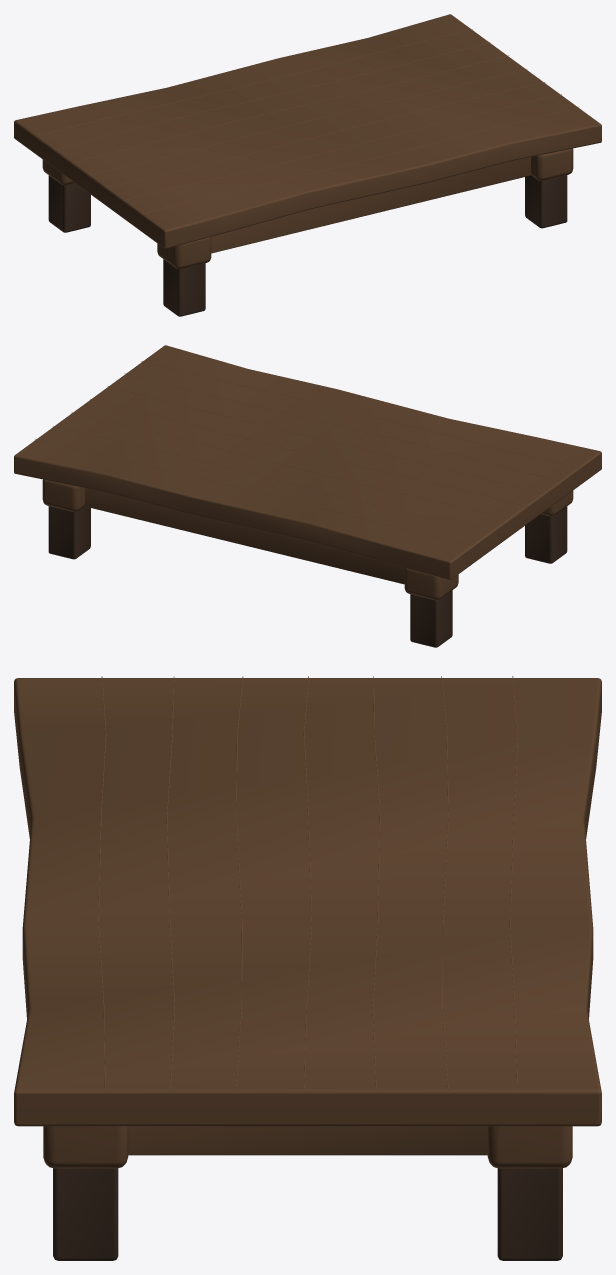
The model's file is kominka-zataku-01.glb.
The picture shows the model from 3 angles, top to bottom: view 1: azimuth 30°, elevation 25°; view 2: azimuth 150°, elevation 25°; view 3: azimuth 270°, elevation 25°; orthographic projection. The views are drawn at different scales.
Parts seen in each view (by area): view 1: kominka-zataku-01; view 2: kominka-zataku-01; view 3: kominka-zataku-01.
Boxes of the visible parts, x1,y1,x2,y2 form: kominka-zataku-01: (14,14,601,316); kominka-zataku-01: (14,345,601,647); kominka-zataku-01: (14,676,601,1260).
Size of the model in its own units: 1.5 by 0.33 by 0.9.
